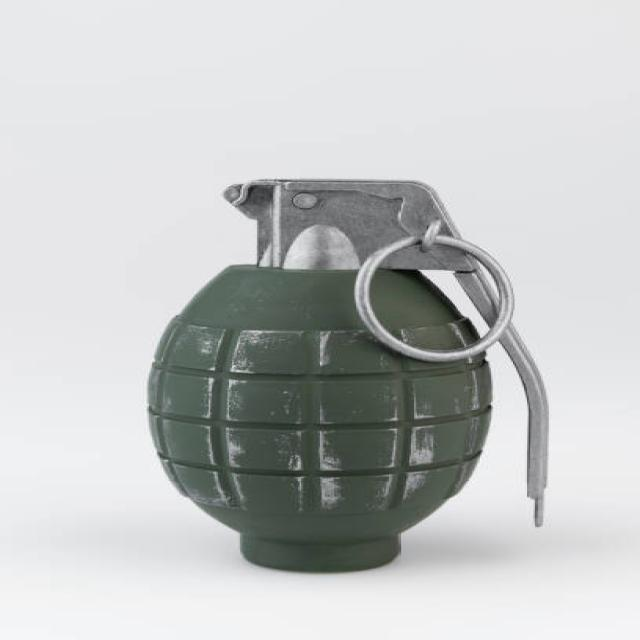grenade: (138, 172, 560, 579)
